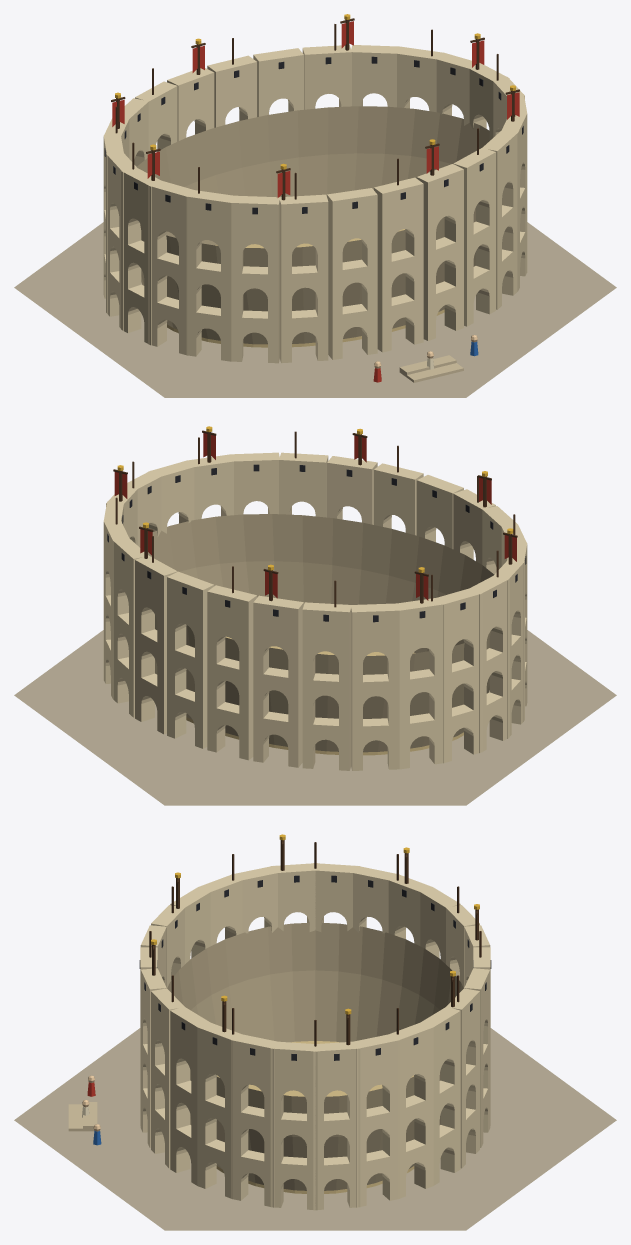
File: wonder_colosseum.fbx
The picture shows the model from 3 angles, top to bottom: view 1: azimuth 30°, elevation 25°; view 2: azimuth 150°, elevation 25°; view 3: azimuth 270°, elevation 25°; orthographic projection.
Parts seen in each view (by area): view 1: wonder_colosseum; view 2: wonder_colosseum; view 3: wonder_colosseum.
Boxes of the visible parts, x1=… form: wonder_colosseum: x1=14, y1=14, x2=616, y2=397; wonder_colosseum: x1=14, y1=426, x2=616, y2=805; wonder_colosseum: x1=14, y1=834, x2=616, y2=1230.
Size of the model in its own units: 182 by 75.8 by 210.
